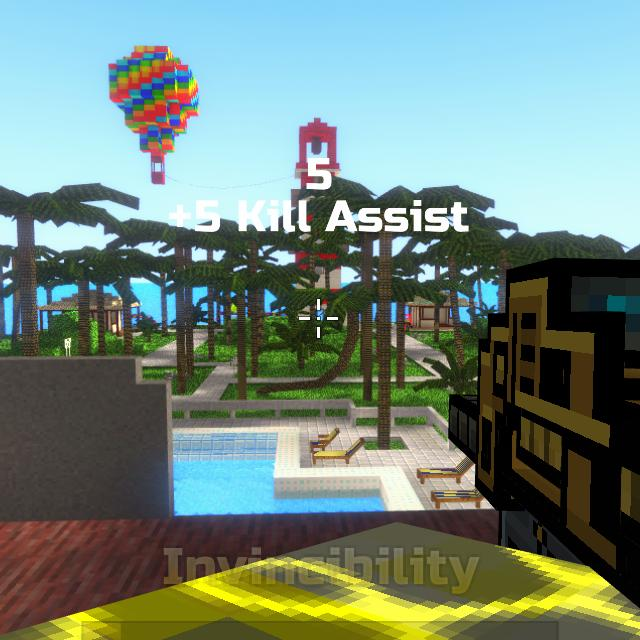Enemy: (405, 319, 413, 332)
